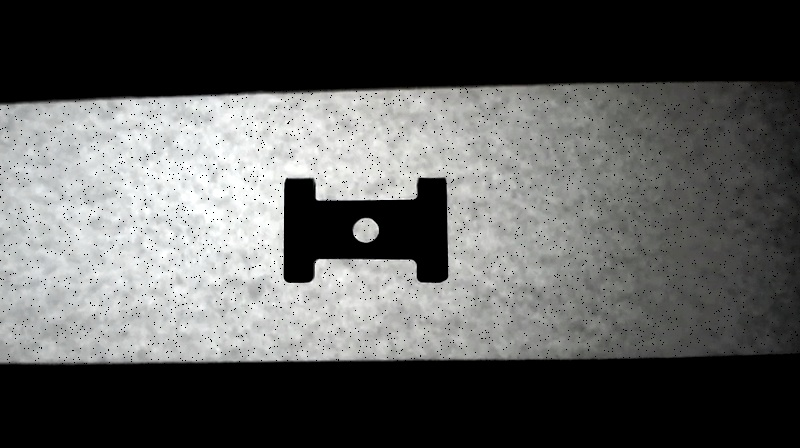O002: (280, 174, 451, 285)
